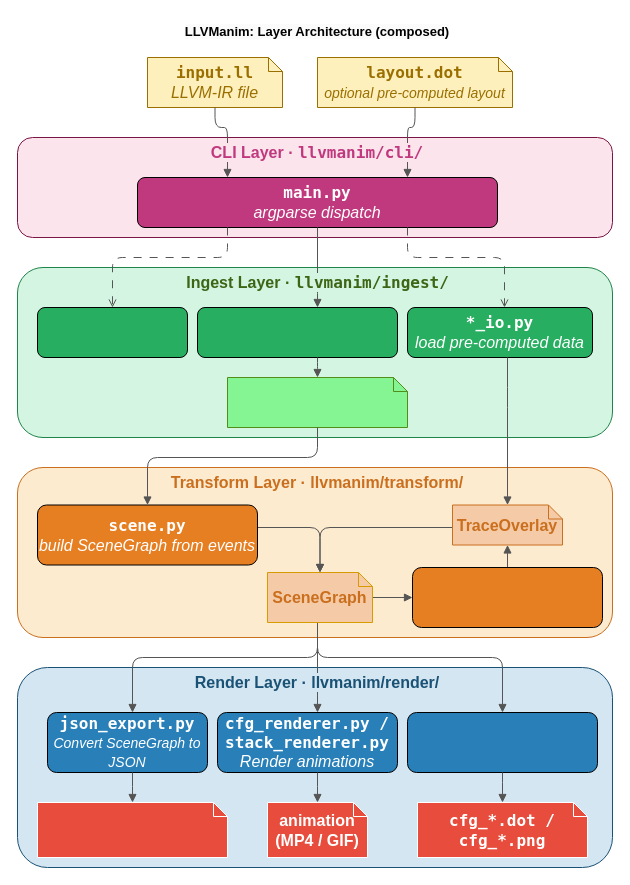
The diagram is 630 pixels wide and 885 high, and some of its shapes have lost their labels. The shapes that lost their labels are listed below. From the top down, each one's centre as x and y in pixels, then its label:
point 112,332: dot_layout.py compute DOT layout
point 297,332: llvm_events.py parse events from IR module
point 317,402: Progr amEventStre am
point 507,597: tr ace.py derive mock runtime values from SceneGraph
point 502,742: graphviz_export.py Export CFG model via graphviz
point 132,830: *_scene_graph.json
